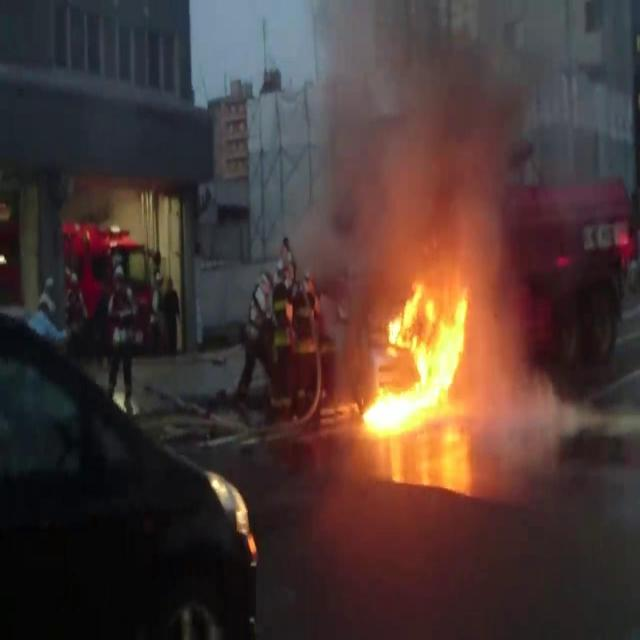Fire: (358, 290, 476, 429)
